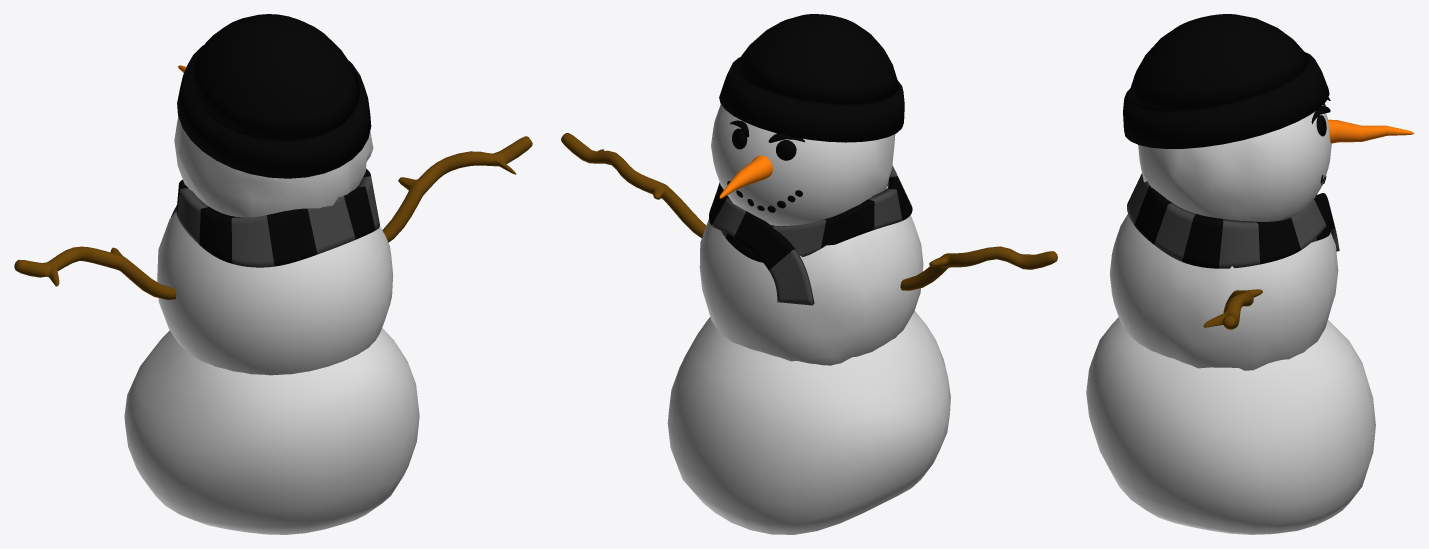
The model's file is MunecoCarterista.fbx.
The picture shows the model from 3 angles, left to right: view 1: azimuth 30°, elevation 25°; view 2: azimuth 150°, elevation 25°; view 3: azimuth 270°, elevation 25°; orthographic projection. The views are drawn at different scales.
Visible parts, largest first — view 1: Carterista; view 2: Carterista; view 3: Carterista.
Part boxes in pixels (x1,y1,x2,y2): Carterista: (14, 14, 532, 534); Carterista: (561, 14, 1057, 534); Carterista: (1086, 14, 1414, 534).
Size of the model in its own units: 362 by 328 by 204.
